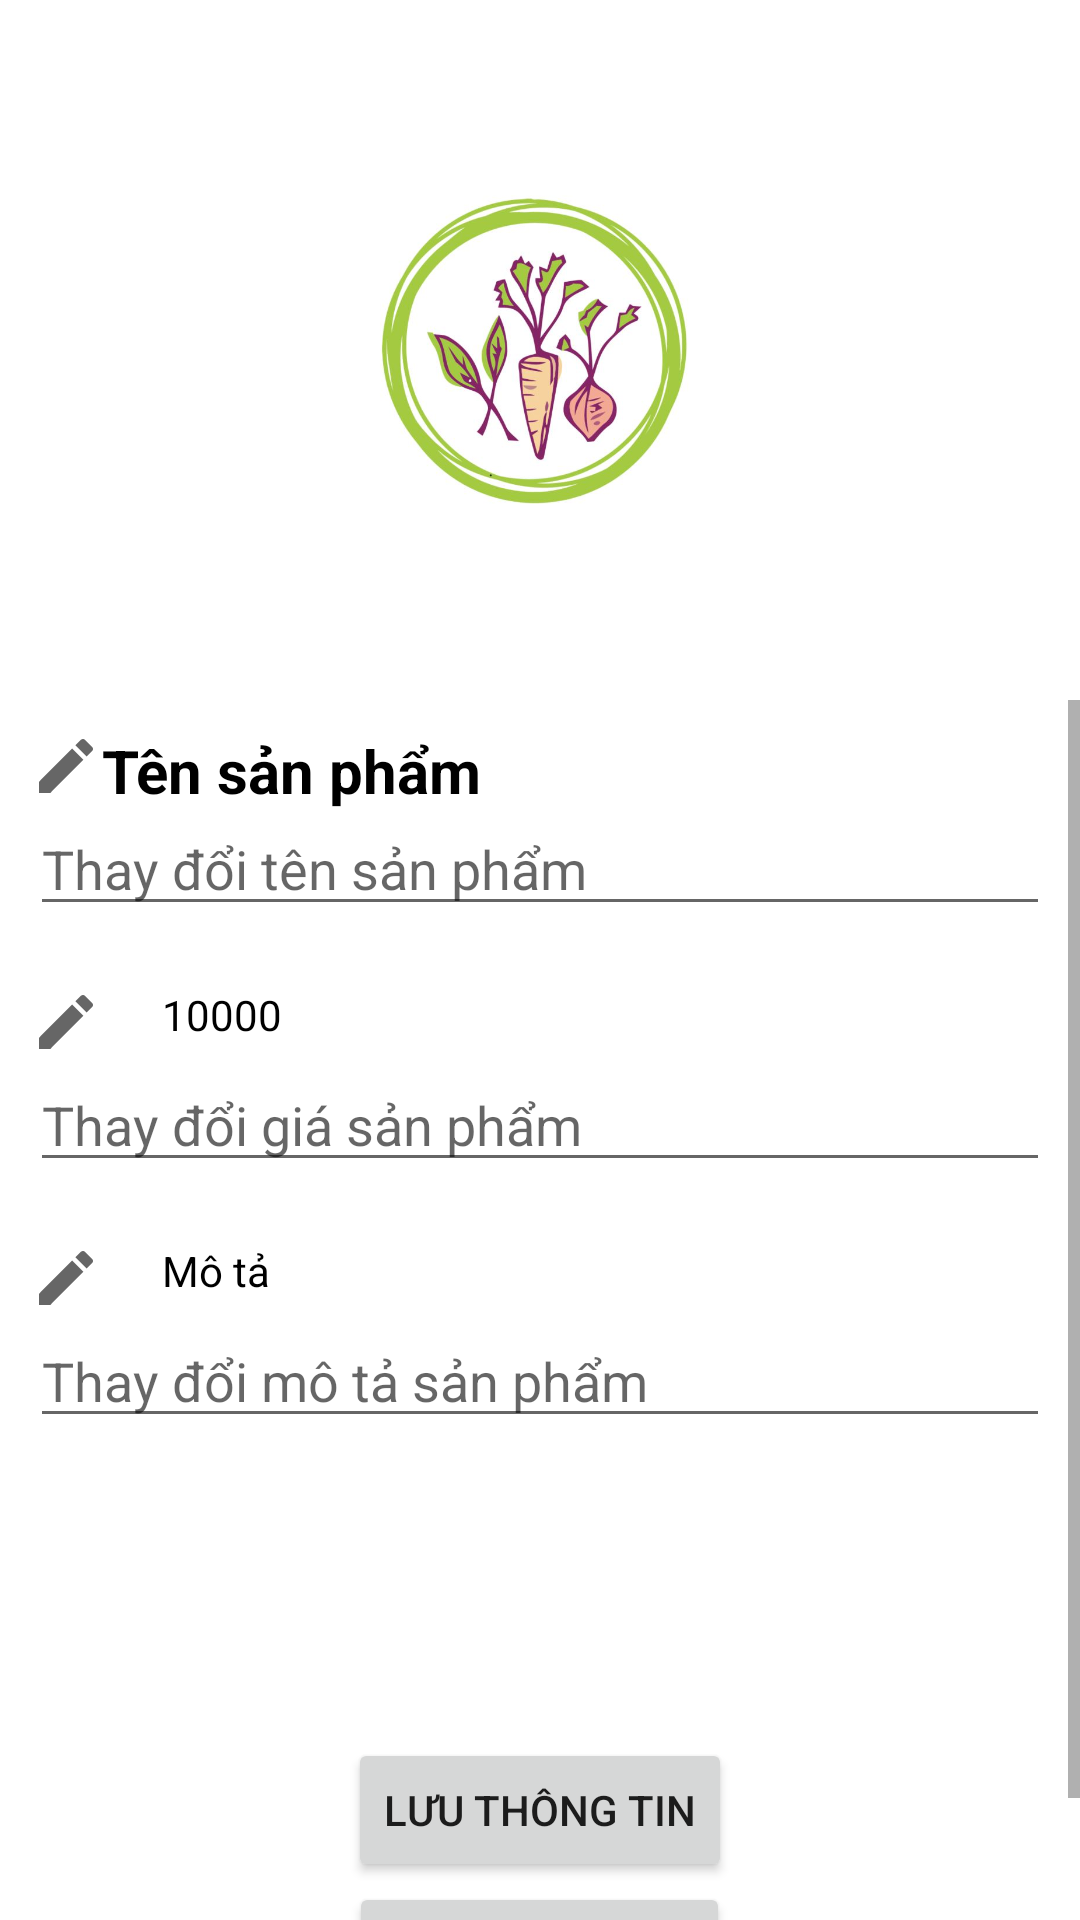

Screen size 1080 × 1920. Icon name, then its box in pixels as (x1, y1, x2, y2):
edit pencil: (39, 739, 93, 793), (39, 995, 93, 1049), (39, 1251, 93, 1305)
